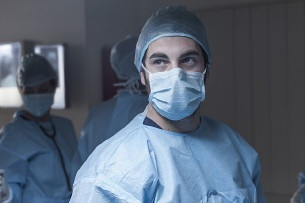Mask: (142, 49, 206, 112)
